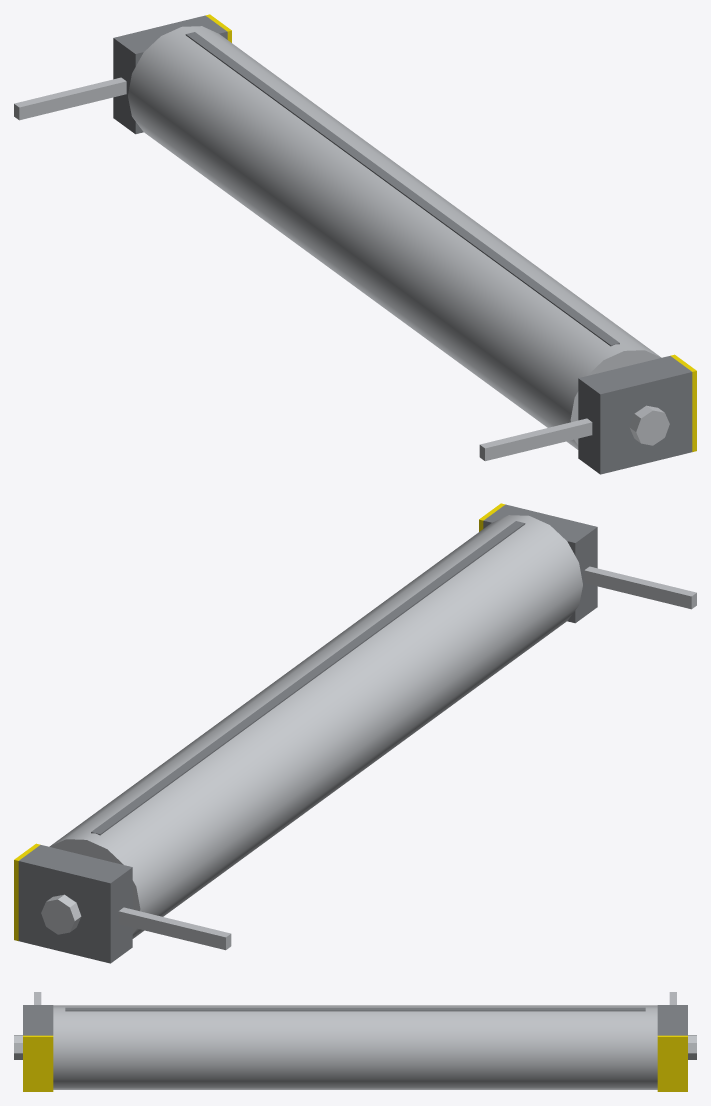
The model's file is esteira_ponteira_medio.glb.
3 views of the same model, one above another, from view 1: azimuth 30°, elevation 25°; view 2: azimuth 150°, elevation 25°; view 3: azimuth 270°, elevation 25° (orthographic). The views are drawn at different scales.
Parts seen in each view (by area): view 1: tambor, mancal_d, mancal_e; view 2: tambor, mancal_e, mancal_d; view 3: tambor, mancal_d, mancal_e.
Part boxes in pixels (x1,y1,x2,y2): tambor: [128, 26, 661, 449]; mancal_d: [479, 354, 696, 474]; mancal_e: [14, 14, 231, 134]; tambor: [49, 515, 582, 938]; mancal_e: [14, 843, 231, 963]; mancal_d: [479, 503, 696, 623]; tambor: [53, 1005, 657, 1089]; mancal_d: [14, 992, 53, 1091]; mancal_e: [657, 992, 696, 1091].
Size of the model in its own units: 0.27 by 0.1403 by 1.13.
